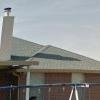Chimney: (1, 5, 16, 49)
